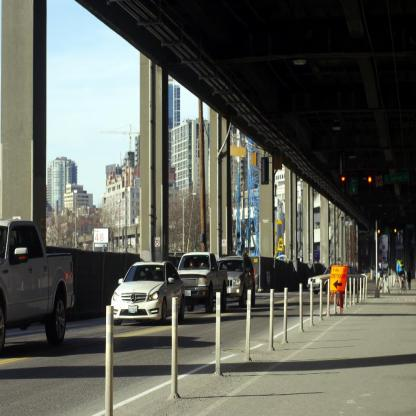Car: (110, 261, 189, 324), (178, 251, 231, 312), (222, 252, 257, 306), (309, 266, 336, 296)
